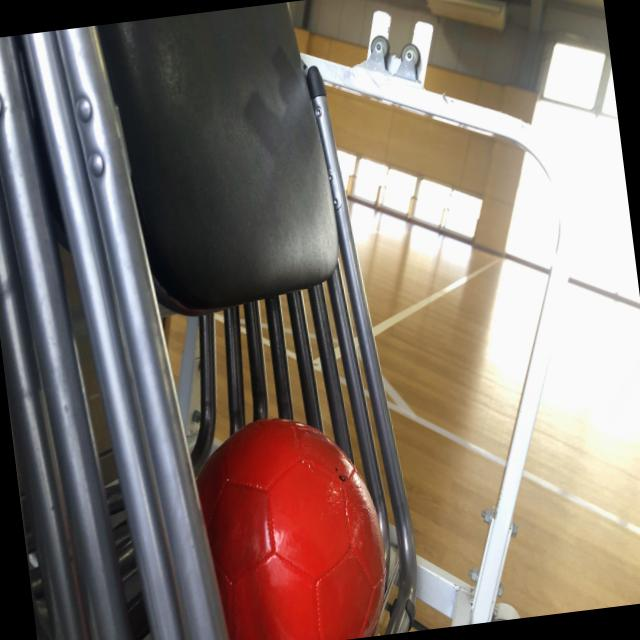red_ball: (180, 408, 395, 640)
